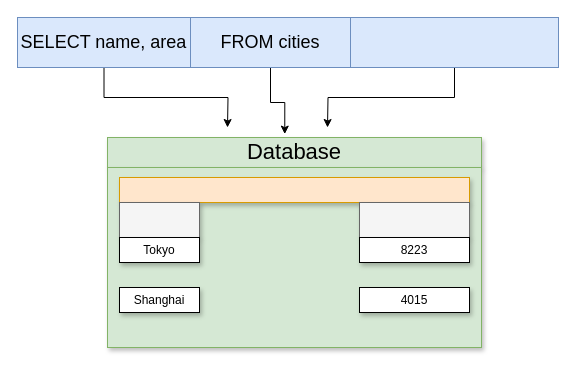
Image size: 576x372. Some labels were removed from this diagram. The shapes that lost their labels are listed below. From the top down, each one's centre as x and y in pixels, then its label:
point 454,42: WHERE area > 4000
point 295,191: cities
point 160,221: name VARCHAR(50)
point 415,221: area INTEGER
